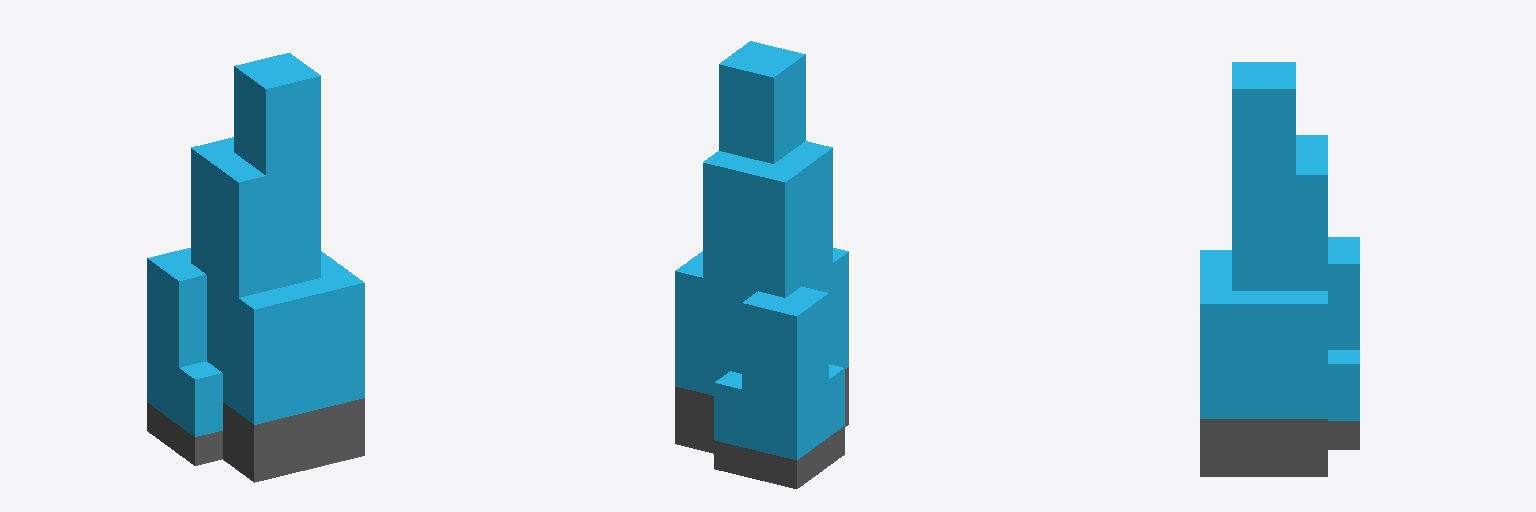
The picture shows the model from 3 angles: view 1: azimuth 30°, elevation 25°; view 2: azimuth 150°, elevation 25°; view 3: azimuth 270°, elevation 25°; orthographic projection.
Visible parts, largest first — view 1: object 1; view 2: object 1; view 3: object 1.
Boxes of the visible parts, <box> form: object 1: <box>147,53,364,482</box>; object 1: <box>675,41,848,488</box>; object 1: <box>1200,62,1359,476</box>.
Size of the model in its own units: 0.5 by 1.3 by 0.5.
1 materials, 1 textured.